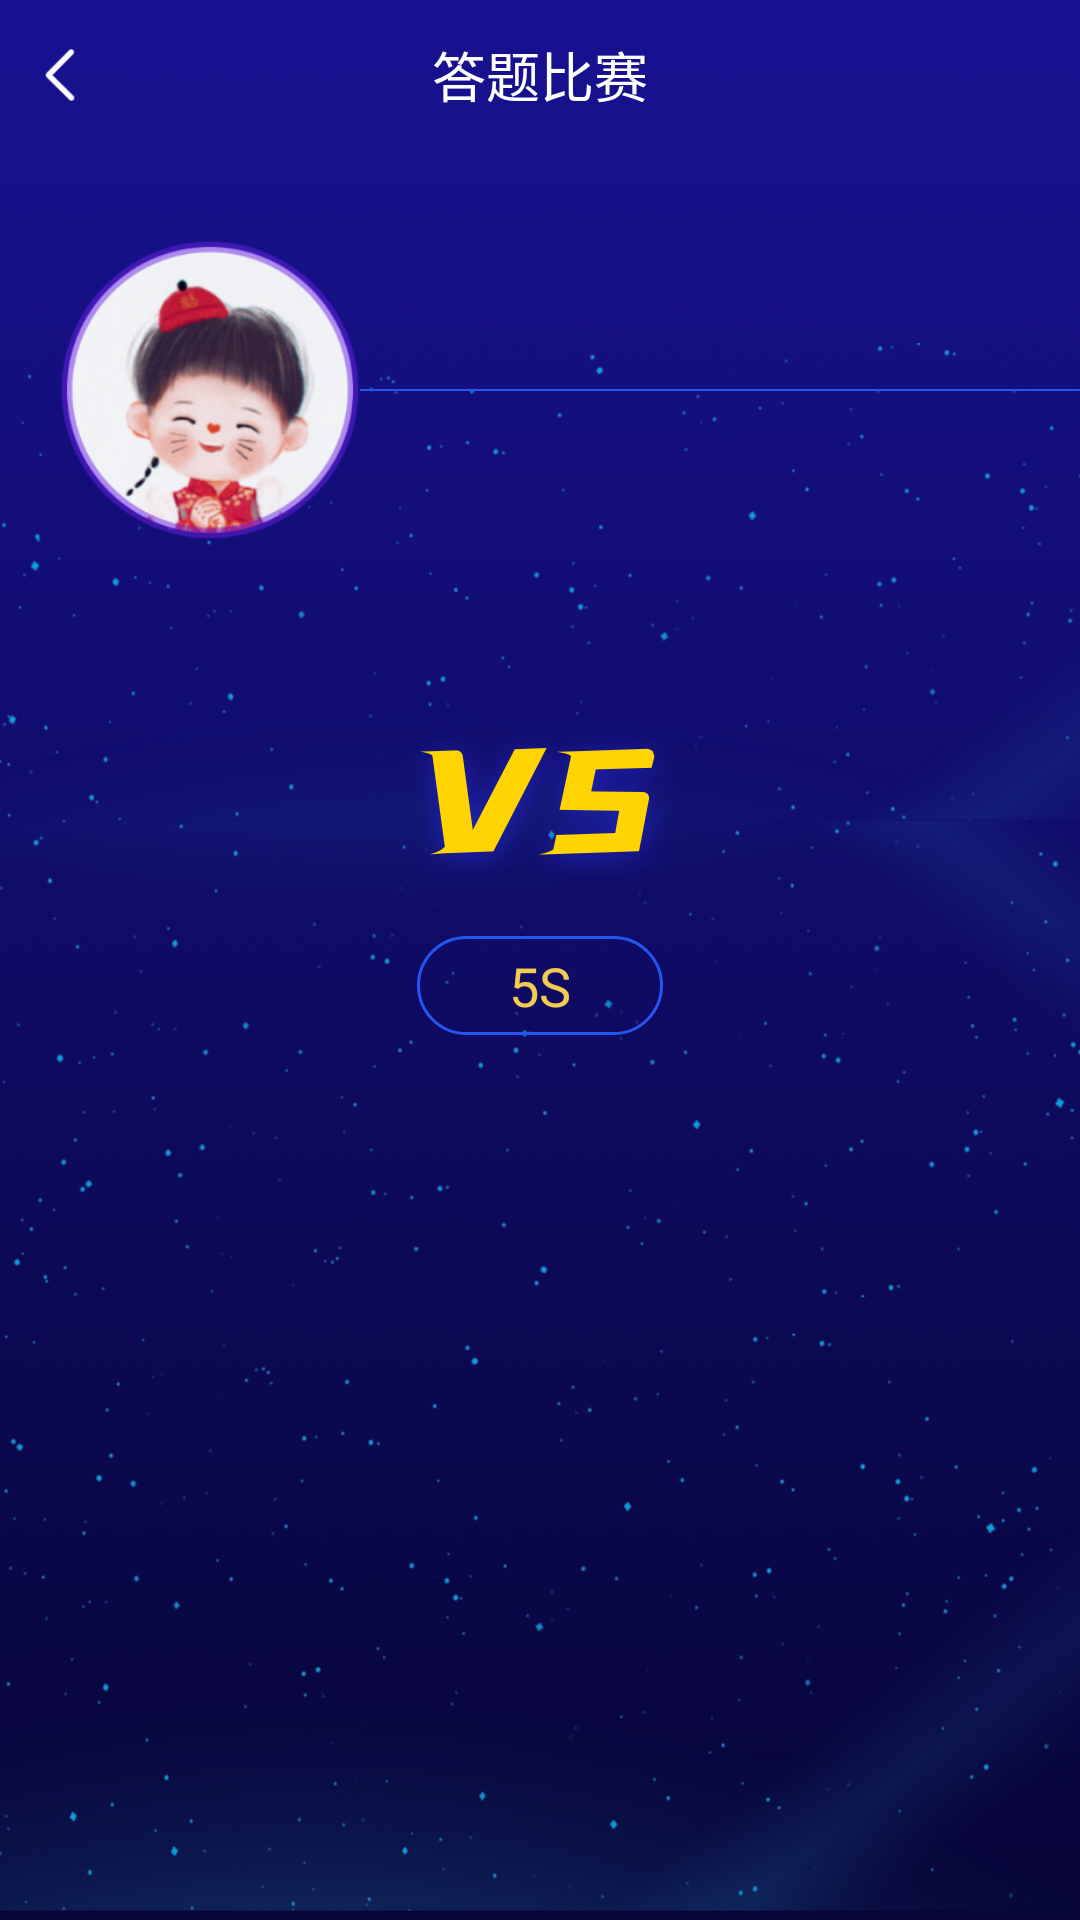

Icons on this 1080 x 1920 Android screen, each with its box as detection(x1, y1, x2, y2):
back: detection(45, 49, 75, 101)
head: detection(61, 241, 359, 538)
